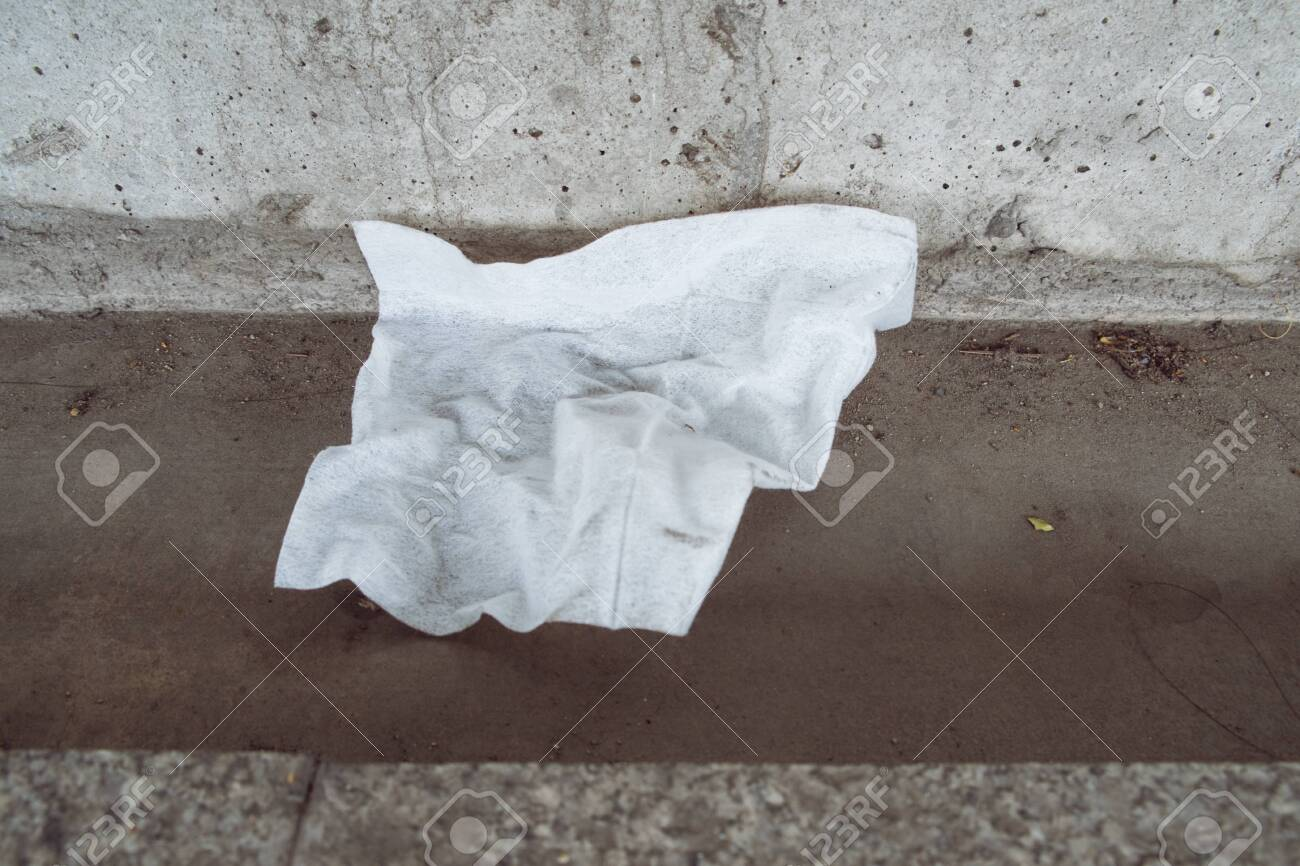Tissue: (267, 196, 923, 641)
